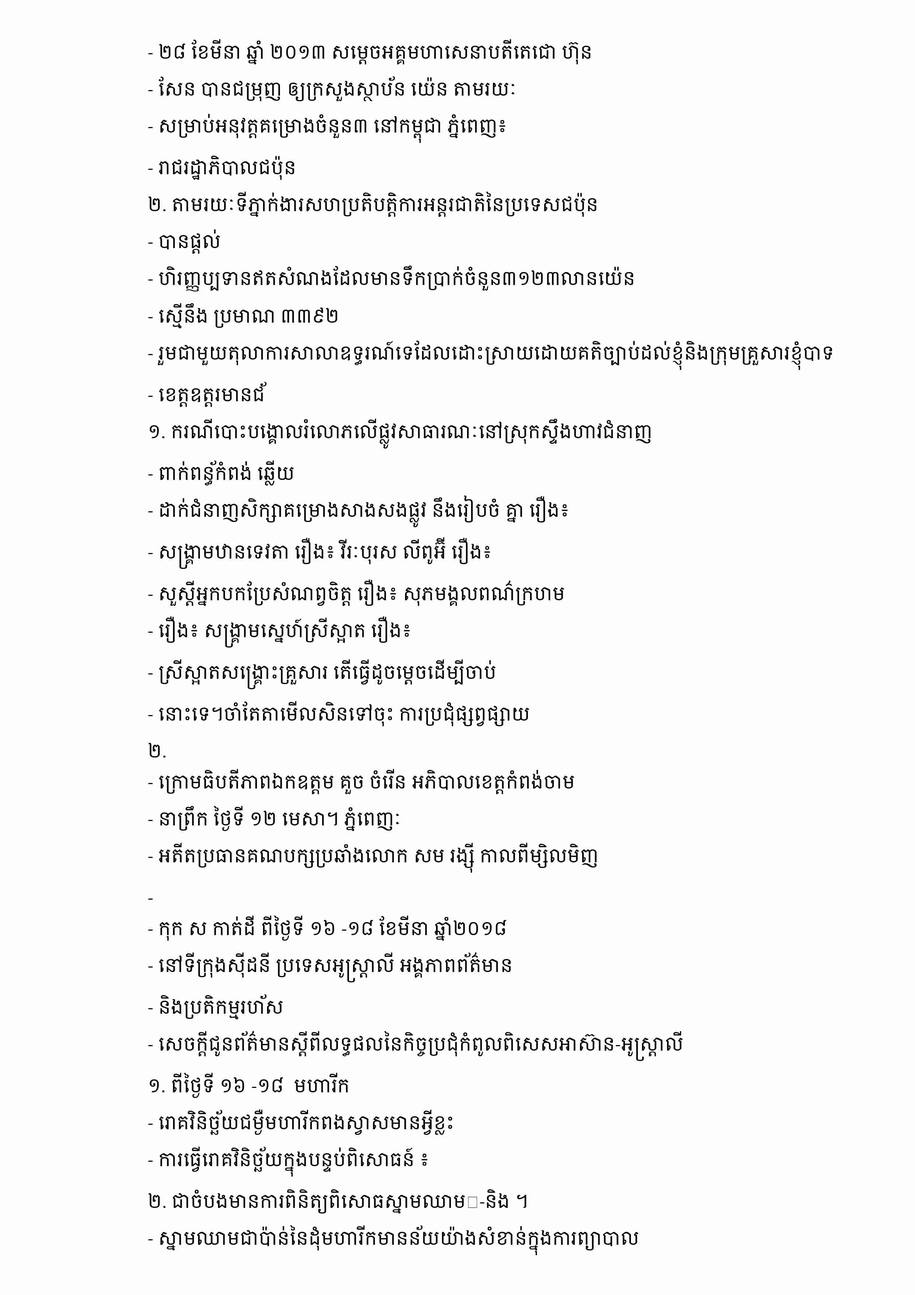text: (148, 340, 839, 370), (148, 1031, 688, 1061), (148, 1225, 644, 1256), (148, 419, 657, 449), (148, 495, 574, 528), (148, 843, 604, 873), (148, 265, 640, 292), (148, 39, 597, 65), (148, 952, 518, 983), (148, 192, 604, 217), (148, 579, 570, 606), (148, 537, 497, 569), (148, 659, 501, 690), (148, 769, 580, 794), (148, 114, 512, 143), (148, 76, 522, 102), (148, 701, 535, 726), (148, 1189, 533, 1214), (148, 916, 512, 941), (148, 1147, 435, 1177), (148, 616, 417, 648), (148, 1109, 459, 1135), (148, 806, 407, 831), (148, 1073, 355, 1098), (148, 303, 344, 329), (148, 460, 300, 486), (148, 155, 301, 180), (148, 994, 289, 1020), (148, 382, 270, 407), (148, 229, 226, 254), (148, 743, 172, 758), (148, 899, 158, 904)
